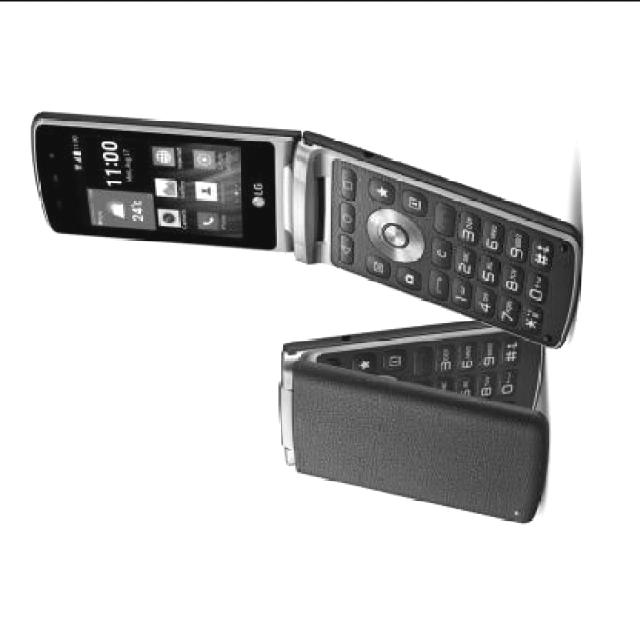fake: (27, 109, 584, 345), (276, 318, 550, 522)
